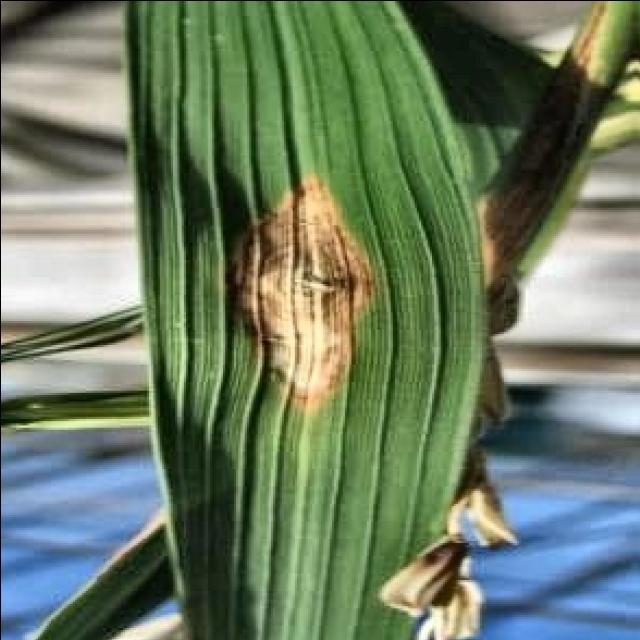Leaf_Blast: (233, 172, 390, 412)
